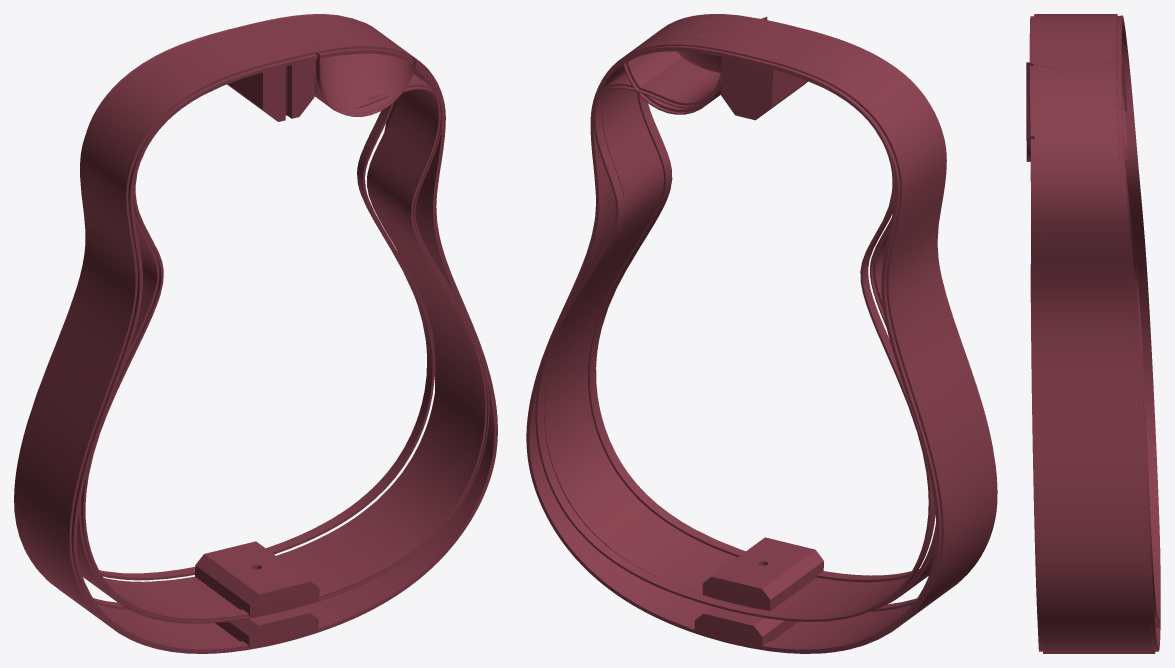
The model's file is sides-collection.glb.
3 views of the same model, side by side, from view 1: azimuth 30°, elevation 25°; view 2: azimuth 150°, elevation 25°; view 3: azimuth 270°, elevation 25° (orthographic). The views are drawn at different scales.
Parts seen in each view (by area): view 1: Body_Sides.002, Body_Sides_Arm_Bevel_Scalloped_Cutaway.003, Body_Sides.003, Body_Sides_Arm_Bevel_Florentine_Cutaway.001, Body_Lining_Top.002, Body_Lining_Top.003, Body_Sides_Arm_Bevel_Scalloped_Cutaway.002, Body_Lining_Bottom.003, Body_Tail_Block.003, Body_Sides_Arm_Bevel.001, Body_Tail_Block.002, Body_Heel_Block.002 (+5 smaller); view 2: Body_Sides.002, Body_Sides_Arm_Bevel_Florentine_Cutaway.001, Body_Sides_Arm_Bevel_Scalloped_Cutaway.003, Body_Sides.003, Body_Lining_Bottom.003, Body_Lining_Bottom.002, Body_Tail_Block.003, Body_Lining_Top.003, Body_Sides_Arm_Bevel_Venetian_Cutaway.001, Body_Heel_Block.002, Body_Tail_Block.002, Body_Sides_Arm_Bevel_Scalloped_Cutaway.002 (+4 smaller); view 3: Body_Sides_Arm_Bevel_Scalloped_Cutaway.002, Body_Sides.002, Body_Sides_Venetian_Cutaway.001, Body_Sides_Arm_Bevel_Florentine_Cutaway.001, Body_Sides_Arm_Bevel_Venetian_Cutaway.001, Body_Sides_Scalloped_Cutaway.001, Body_Sides_Arm_Bevel.001, Body_Sides_Florentine_Cutaway.001, Body_Lining_Bottom.003, Body_Sides_Arm_Bevel_Scalloped_Cutaway.003, Body_Sides.003, Body_Lining_Bottom.002.
Part boxes in pixels (left/top/right/bottom): Body_Sides.002: left=14, top=17, right=497, bottom=653; Body_Sides_Arm_Bevel_Scalloped_Cutaway.003: left=77, top=20, right=489, bottom=623; Body_Sides.003: left=77, top=20, right=489, bottom=623; Body_Sides_Arm_Bevel_Florentine_Cutaway.001: left=14, top=21, right=497, bottom=653; Body_Lining_Top.002: left=74, top=51, right=496, bottom=651; Body_Lining_Top.003: left=84, top=59, right=487, bottom=620; Body_Sides_Arm_Bevel_Scalloped_Cutaway.002: left=70, top=15, right=497, bottom=653; Body_Lining_Bottom.003: left=86, top=14, right=434, bottom=580; Body_Tail_Block.003: left=195, top=541, right=319, bottom=616; Body_Sides_Arm_Bevel.001: left=97, top=20, right=497, bottom=648; Body_Tail_Block.002: left=215, top=606, right=318, bottom=647; Body_Heel_Block.002: left=227, top=57, right=314, bottom=120; Body_Sides.002: left=526, top=14, right=997, bottom=653; Body_Sides_Arm_Bevel_Florentine_Cutaway.001: left=526, top=22, right=997, bottom=653; Body_Sides_Arm_Bevel_Scalloped_Cutaway.003: left=544, top=17, right=936, bottom=615; Body_Sides.003: left=544, top=14, right=936, bottom=614; Body_Lining_Bottom.003: left=535, top=46, right=935, bottom=621; Body_Lining_Bottom.002: left=527, top=49, right=938, bottom=651; Body_Tail_Block.003: left=702, top=537, right=823, bottom=610; Body_Lining_Top.003: left=588, top=93, right=919, bottom=582; Body_Sides_Arm_Bevel_Venetian_Cutaway.001: left=526, top=57, right=722, bottom=639; Body_Heel_Block.002: left=721, top=57, right=807, bottom=120; Body_Tail_Block.002: left=694, top=606, right=798, bottom=648; Body_Sides_Arm_Bevel_Scalloped_Cutaway.002: left=526, top=21, right=934, bottom=636; Body_Sides_Arm_Bevel_Scalloped_Cutaway.002: left=1026, top=48, right=1159, bottom=653; Body_Sides.002: left=1029, top=14, right=1157, bottom=653; Body_Sides_Venetian_Cutaway.001: left=1030, top=56, right=1157, bottom=653; Body_Sides_Arm_Bevel_Florentine_Cutaway.001: left=1029, top=14, right=1156, bottom=653; Body_Sides_Arm_Bevel_Venetian_Cutaway.001: left=1030, top=79, right=1158, bottom=653; Body_Sides_Scalloped_Cutaway.001: left=1030, top=48, right=1151, bottom=653; Body_Sides_Arm_Bevel.001: left=1029, top=16, right=1152, bottom=652; Body_Sides_Florentine_Cutaway.001: left=1030, top=15, right=1159, bottom=653; Body_Lining_Bottom.003: left=1116, top=15, right=1160, bottom=621; Body_Sides_Arm_Bevel_Scalloped_Cutaway.003: left=1026, top=15, right=1101, bottom=613; Body_Sides.003: left=1029, top=14, right=1101, bottom=619; Body_Lining_Bottom.002: left=1122, top=21, right=1160, bottom=649.
Size of the model in its own units: 0.000392 by 0.000514 by 0.00011.
